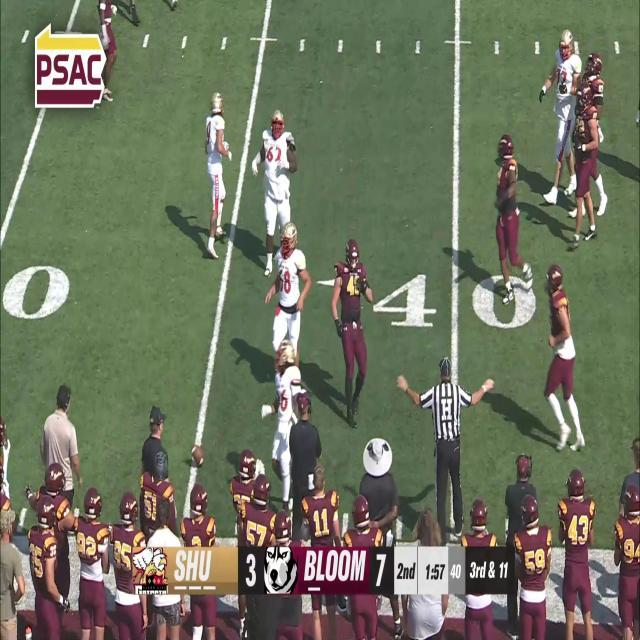football: (191, 442, 205, 470)
